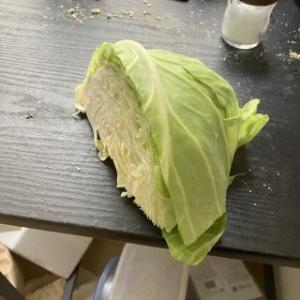cabbage: (73, 39, 268, 266)
